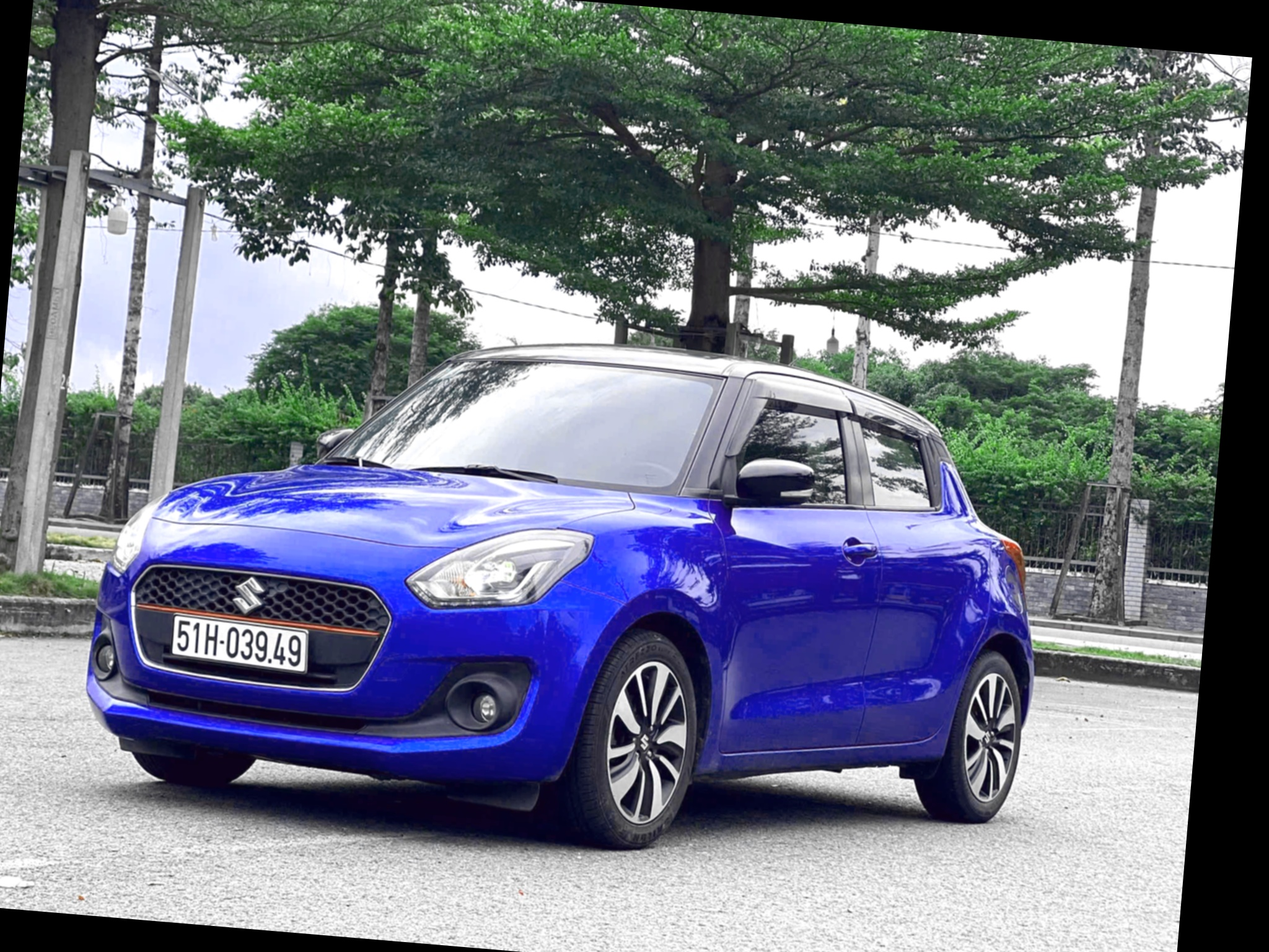Bien-so: (167, 578, 311, 633)
